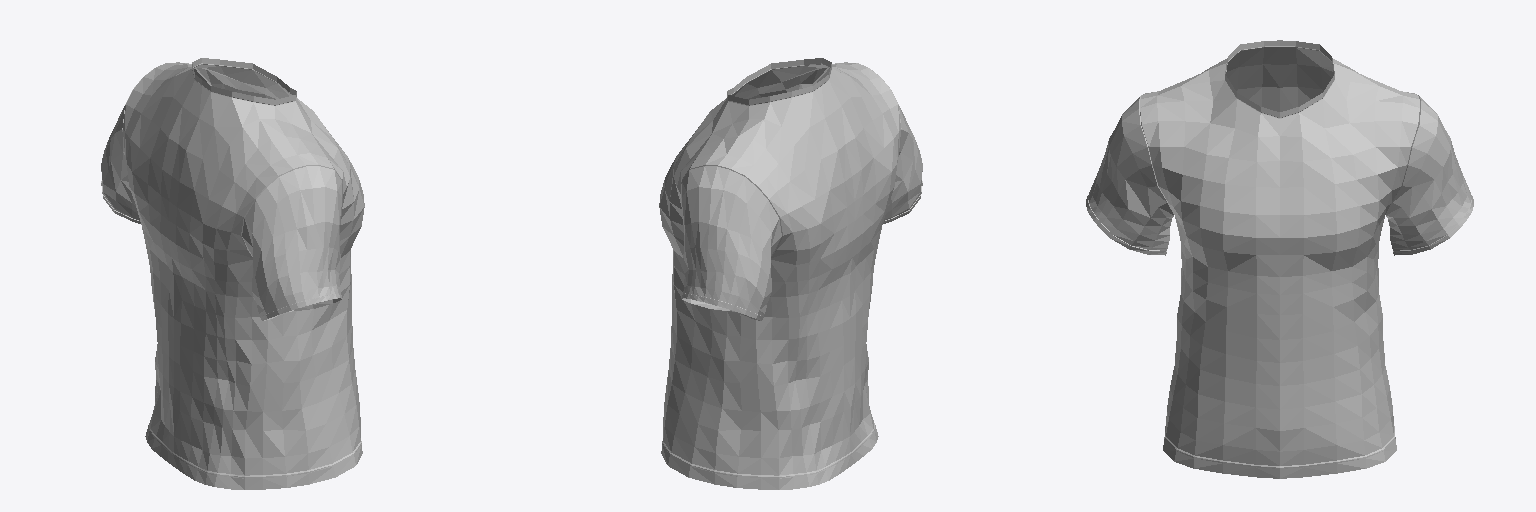
File: dartshirt.obj
3 views of the same model, side by side, from view 1: azimuth 30°, elevation 25°; view 2: azimuth 150°, elevation 25°; view 3: azimuth 270°, elevation 25° (orthographic).
Visible parts, largest first — view 1: Plane; view 2: Plane; view 3: Plane.
Boxes of the visible parts, box(x1,y1,x2,y2) form: Plane: box(101, 58, 364, 489); Plane: box(659, 58, 922, 489); Plane: box(1086, 40, 1473, 478).
Bounding box in the file's own units: 0.5337 × 1.1 × 1.02.